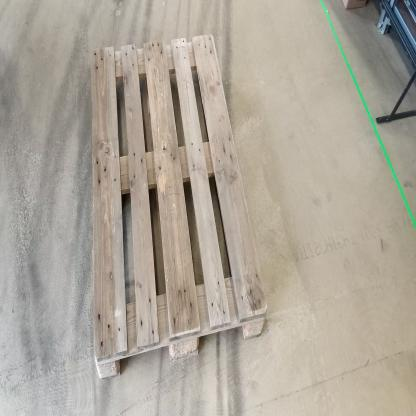BoxFace: (90, 27, 274, 391)
